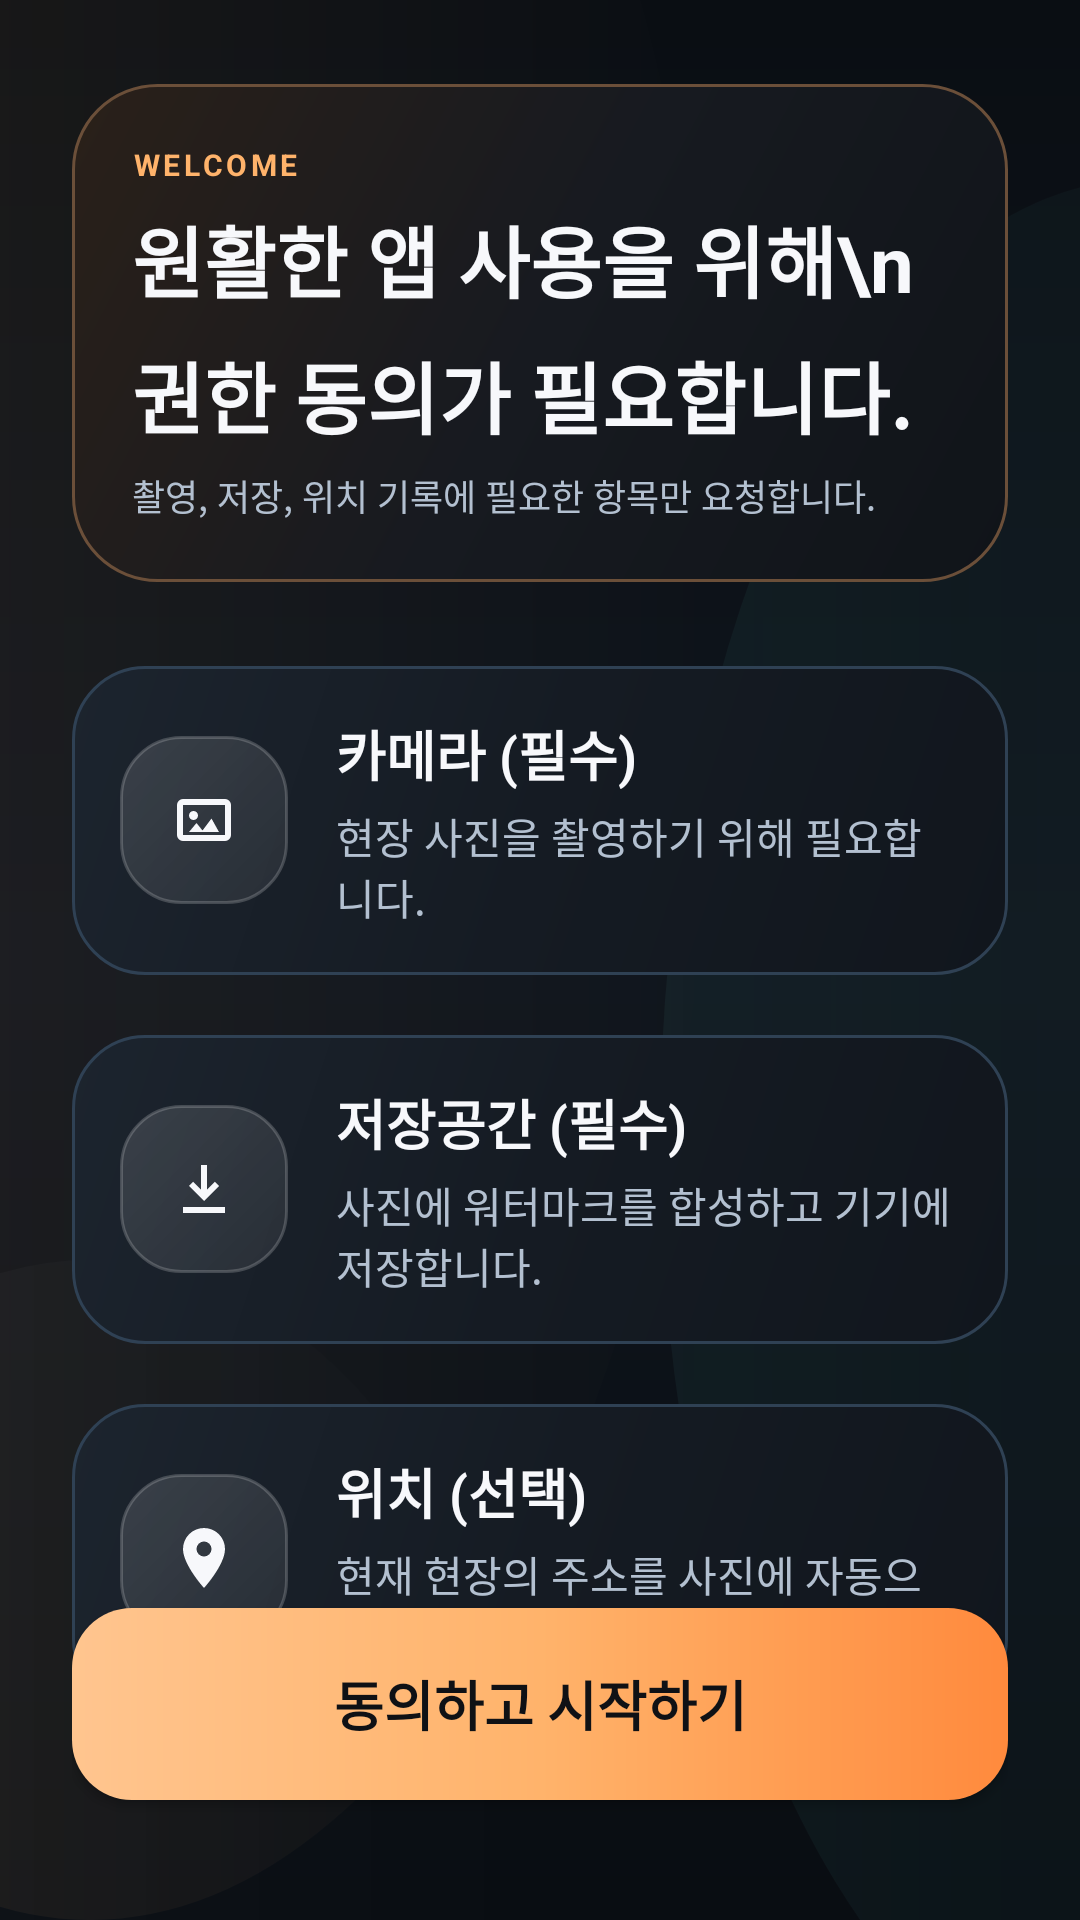

Icon bounding boxes for this 1080x1920 phone screenshot, format (x1, y1, x2, y2):
download: (183, 1165, 225, 1213)
location: (183, 1528, 225, 1588)
